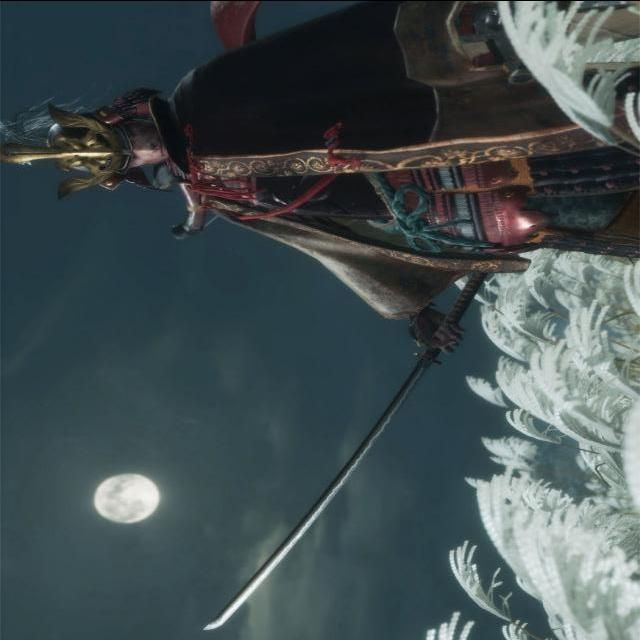katana: (201, 270, 488, 632)
